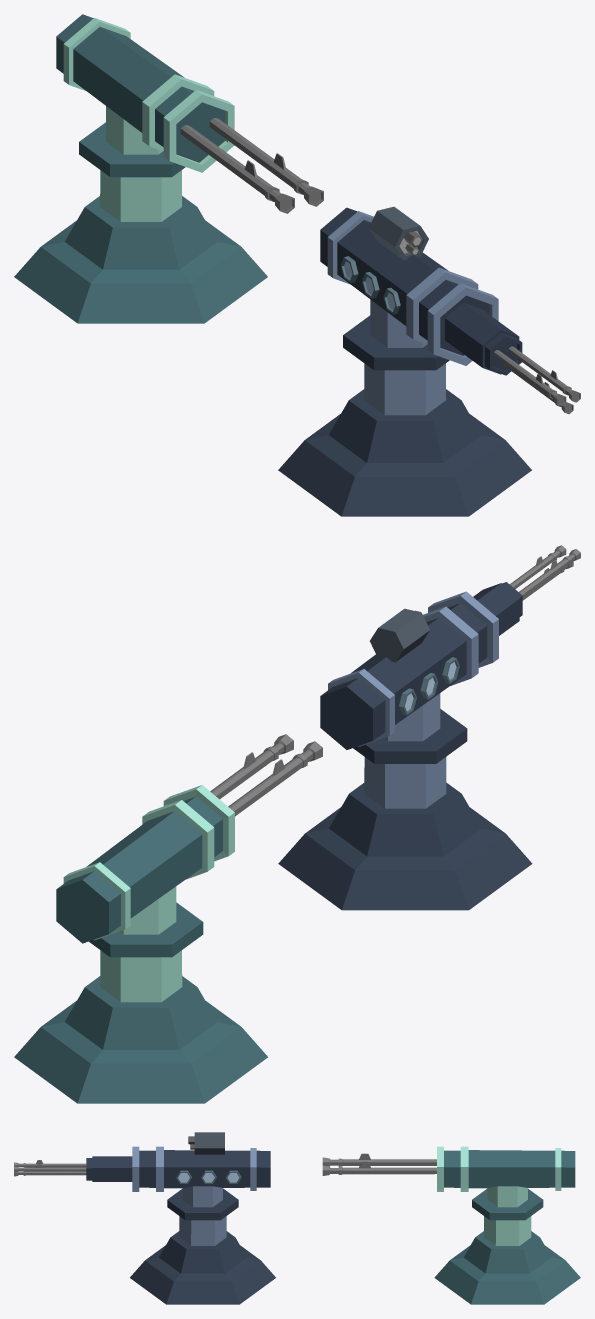
File: Turret.dae
3 views of the same model, one above another, from view 1: azimuth 30°, elevation 25°; view 2: azimuth 150°, elevation 25°; view 3: azimuth 270°, elevation 25° (orthographic). The views are drawn at different scales.
Visible parts, largest first — view 1: Cylinder, Cylinder.013, Cylinder.010, Cylinder.003, Cylinder.012, Cylinder.001, Cylinder.004, Cylinder.005, Cylinder.014, Cylinder.002, Cylinder.011, Cylinder.006 (+3 smaller); view 2: Cylinder.013, Cylinder, Cylinder.003, Cylinder.010, Cylinder.001, Cylinder.012, Cylinder.014, Cylinder.005, Cylinder.011, Cylinder.002, Cylinder.004, Cylinder.006 (+1 smaller); view 3: Cylinder.013, Cylinder, Cylinder.010, Cylinder.003, Cylinder.012, Cylinder.001, Cylinder.004, Cylinder.005, Cylinder.011, Cylinder.002, Cylinder.014, Cylinder.009 (+4 smaller).
Boxes of the visible parts, box(x1,y1,x2,y2) form: Cylinder: box(14, 196, 267, 323); Cylinder.013: box(278, 389, 531, 516); Cylinder.010: box(320, 207, 522, 375); Cylinder.003: box(56, 14, 234, 172); Cylinder.012: box(343, 315, 449, 415); Cylinder.001: box(79, 122, 185, 221); Cylinder.004: box(209, 118, 323, 206); Cylinder.005: box(180, 125, 294, 213); Cylinder.014: box(368, 206, 428, 260); Cylinder.002: box(106, 106, 162, 154); Cylinder.011: box(370, 299, 426, 347); Cylinder.006: box(63, 18, 130, 91); Cylinder.013: box(278, 782, 532, 910); Cylinder: box(14, 976, 267, 1103); Cylinder.003: box(56, 785, 234, 943); Cylinder.010: box(320, 582, 522, 749); Cylinder.001: box(89, 902, 203, 1002); Cylinder.012: box(353, 709, 467, 808); Cylinder.014: box(370, 608, 429, 662); Cylinder.005: box(228, 741, 322, 816); Cylinder.011: box(384, 693, 440, 741); Cylinder.002: box(119, 886, 176, 934); Cylinder.004: box(210, 734, 293, 799); Cylinder.006: box(63, 862, 130, 940); Cylinder.013: box(130, 1231, 275, 1304); Cylinder: box(434, 1231, 580, 1304); Cylinder.010: box(86, 1146, 270, 1191); Cylinder.003: box(437, 1146, 575, 1191); Cylinder.012: box(167, 1188, 238, 1245); Cylinder.001: box(472, 1189, 543, 1245); Cylinder.004: box(322, 1161, 436, 1175); Cylinder.005: box(322, 1153, 436, 1166); Cylinder.011: box(182, 1186, 222, 1207); Cylinder.002: box(487, 1186, 527, 1207); Cylinder.014: box(194, 1132, 224, 1154); Cylinder.009: box(14, 1164, 86, 1172).
Bounding box in the file's own units: 2.96 × 13.2 × 3.67.
